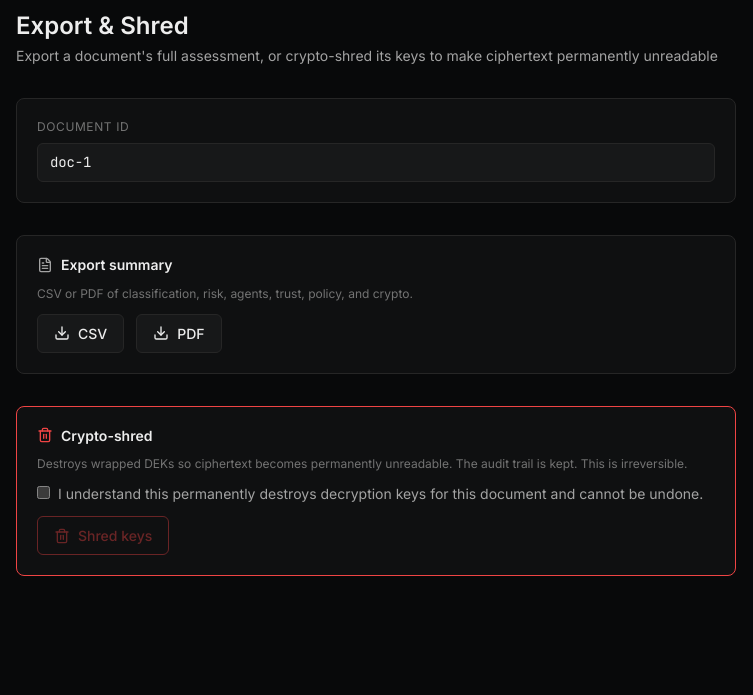
it: SummaryScreen › surfaces shred API errors
This screenshot has width=753, height=695.
Click the checkbox labelled "permanently destroys decryption keys".
click(44, 492)  # box [37, 486, 50, 499]
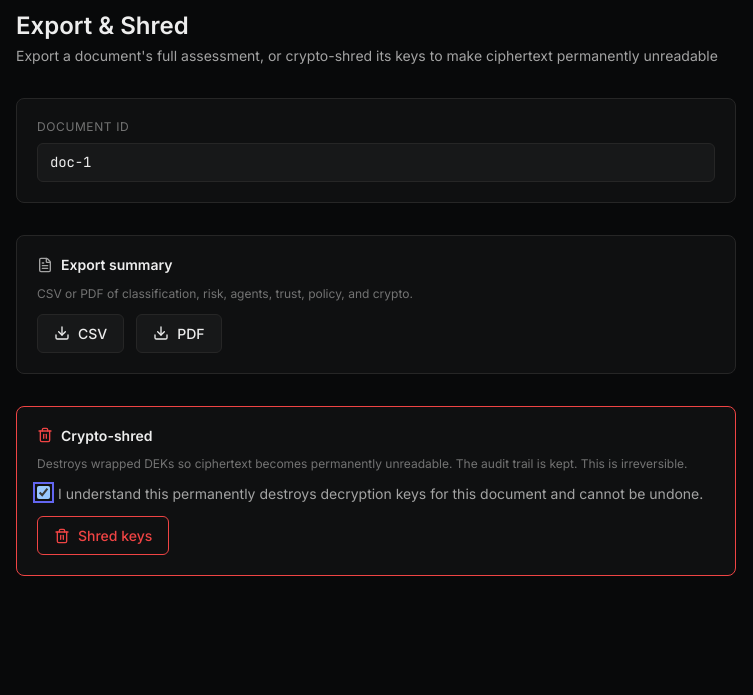
Click the button "Shred keys".
click(103, 536)  # box [37, 516, 169, 555]
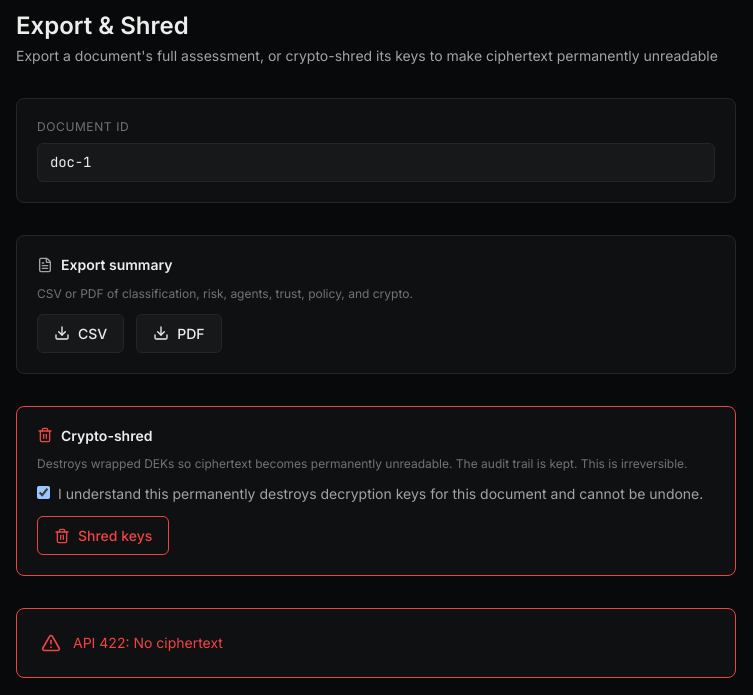
Now the text "API 422: No ciphertext" is shown, box [73, 634, 223, 651]
